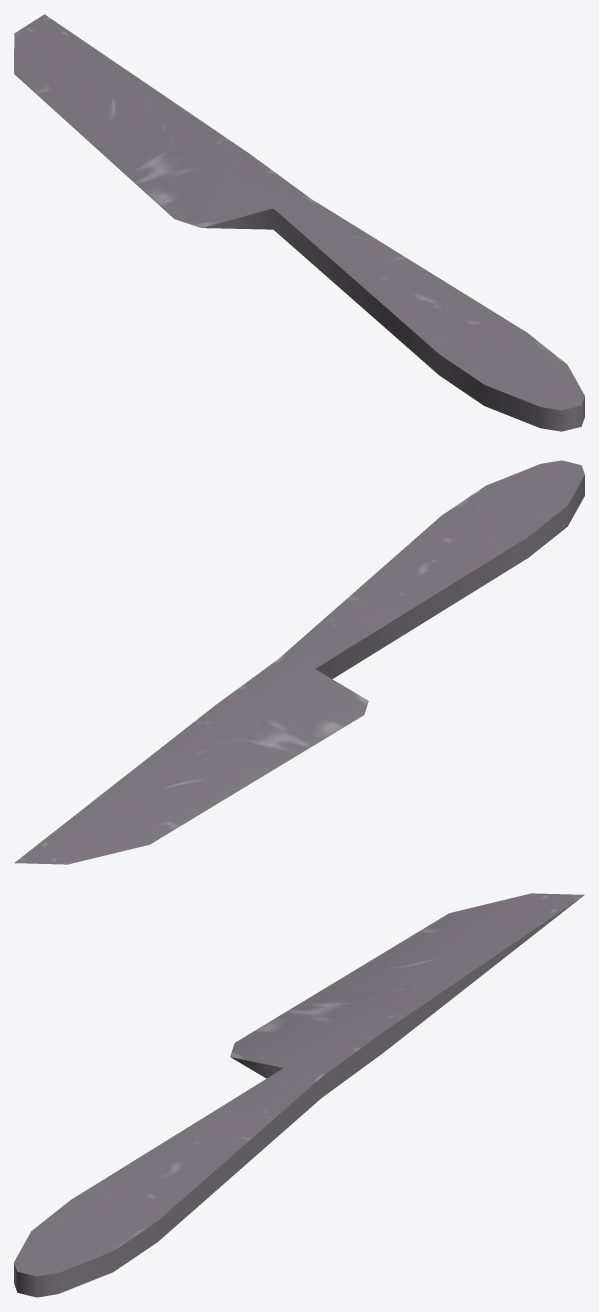
File: Table_Knife.gltf
3 views of the same model, one above another, from view 1: azimuth 30°, elevation 25°; view 2: azimuth 150°, elevation 25°; view 3: azimuth 330°, elevation 25° (orthographic).
Parts seen in each view (by area): view 1: Table_Knife; view 2: Table_Knife; view 3: Table_Knife.
Boxes of the visible parts, bbox=[...] form: Table_Knife: bbox=[14, 14, 584, 431]; Table_Knife: bbox=[14, 460, 584, 864]; Table_Knife: bbox=[14, 893, 584, 1297].
Size of the model in its own units: 0.0417 by 0.00616 by 0.2866.
1 material, 1 textured.
